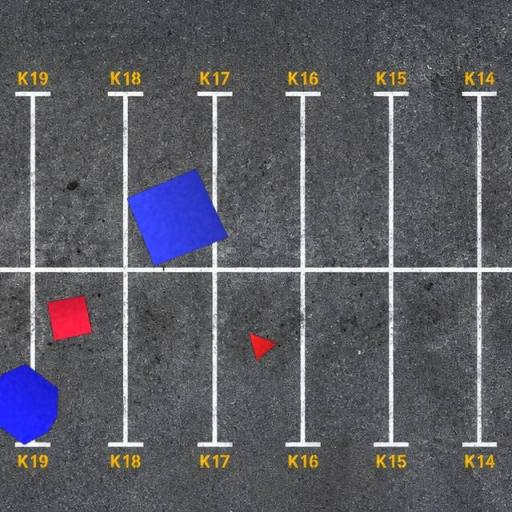BLUE_SQUARE: (126, 168, 228, 267)
RED_SQUARE: (46, 294, 93, 342)
